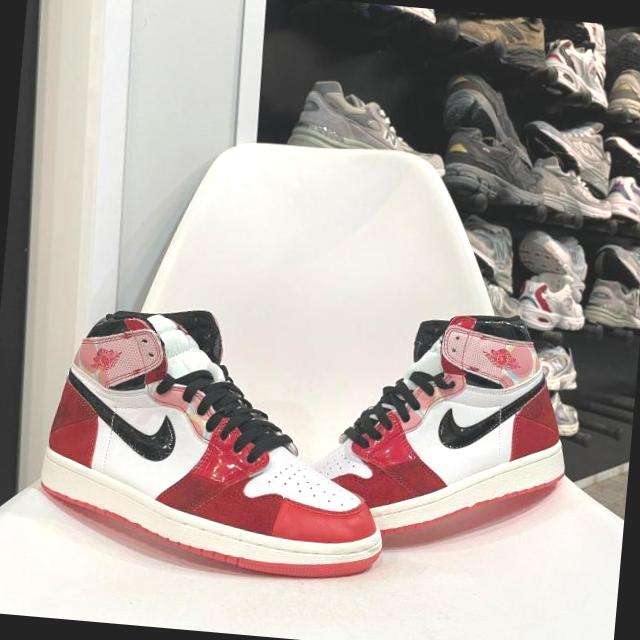nike_fake_jordan: (28, 296, 400, 584), (234, 298, 579, 561)
